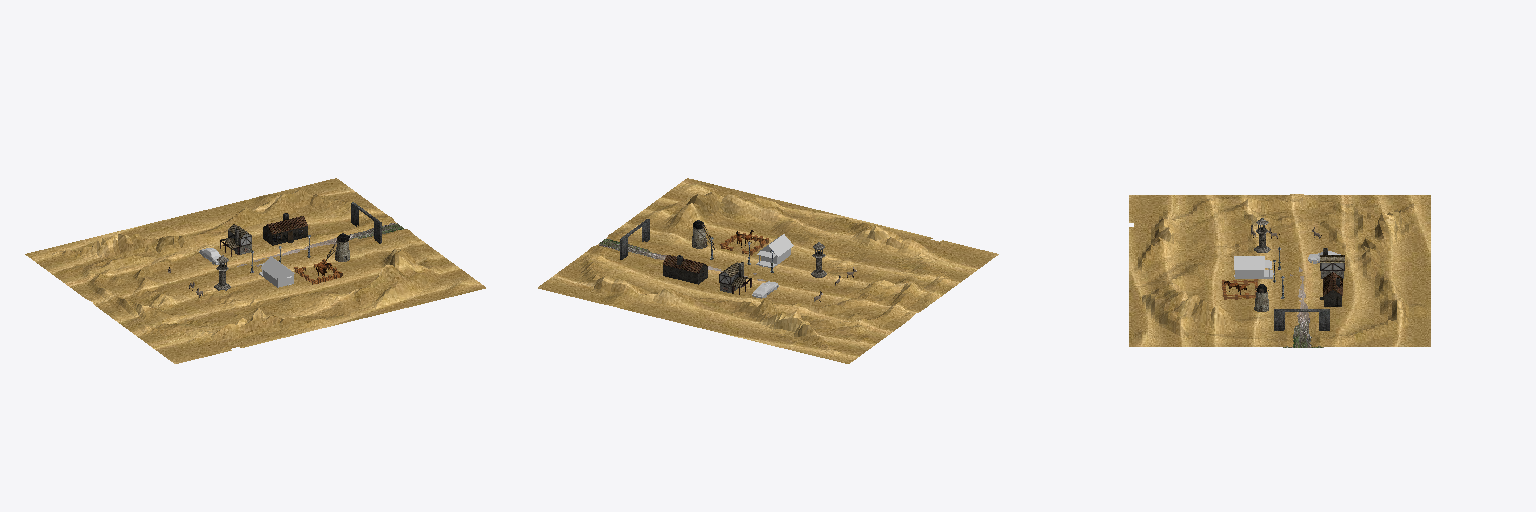
3 renders of one model, left to right at view 1: azimuth 30°, elevation 25°; view 2: azimuth 150°, elevation 25°; view 3: azimuth 270°, elevation 25°, orthographic.
Parts seen in each view (by area): view 1: Plane, casa3, farmhouse_obj, casa2, Plane.003; view 2: Plane, casa3, farmhouse_obj, casa2; view 3: Plane, farmhouse_obj, Plane.003, casa3, poarta, casa2.
Part boxes in pixels (bbox=[...]): Plane: bbox=[25, 178, 485, 363]; casa3: bbox=[263, 213, 307, 245]; farmhouse_obj: bbox=[259, 256, 294, 287]; casa2: bbox=[220, 224, 251, 256]; Plane.003: bbox=[237, 223, 403, 266]; Plane: bbox=[538, 178, 998, 363]; casa3: bbox=[663, 255, 707, 284]; farmhouse_obj: bbox=[756, 234, 793, 267]; casa2: bbox=[719, 262, 751, 294]; Plane: bbox=[1129, 194, 1430, 346]; farmhouse_obj: bbox=[1234, 256, 1273, 278]; Plane.003: bbox=[1283, 267, 1323, 347]; casa3: bbox=[1320, 272, 1342, 306]; poarta: bbox=[1274, 309, 1329, 330]; casa2: bbox=[1320, 248, 1344, 278].
Bounding box in the file's own units: 286 × 30.79 × 239.
18 materials, 12 textured.